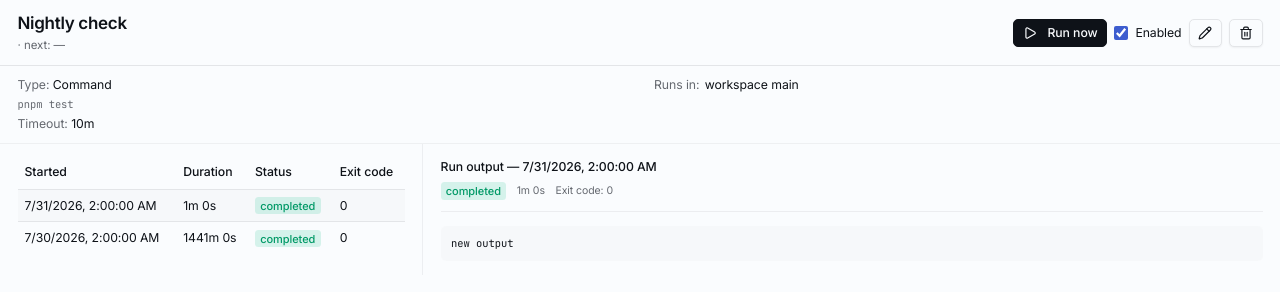
Test: schedule run split view › loads an older run into the right panel when its row is selected
Click the row "7/30/2026, 2:00:00 AM 1441m 0s completed 0": (211, 238) [18,222,405,254]
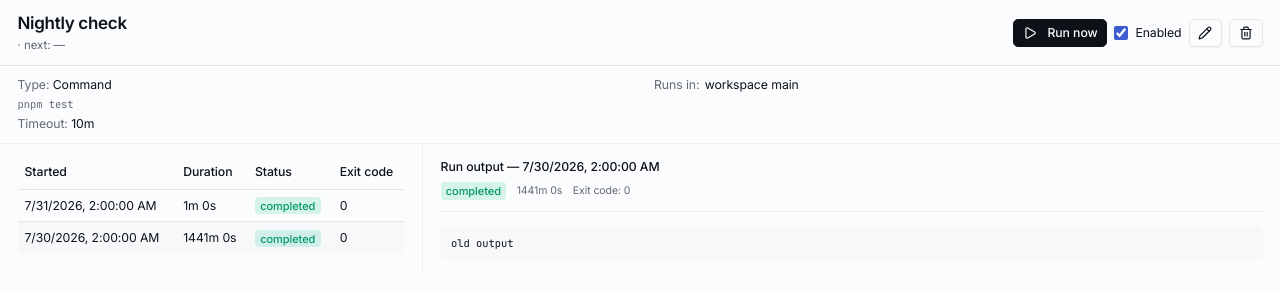
Now the text "old output" is shown, box [441,226,1262,261]
Now the text "new output" is gone
